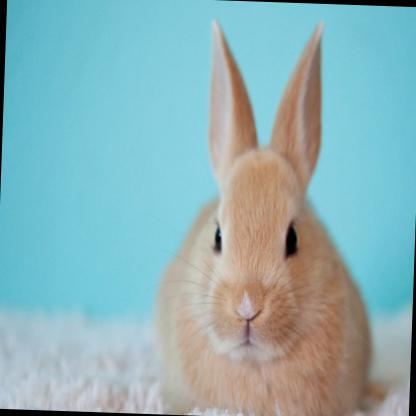rabbit: (129, 4, 403, 415)
